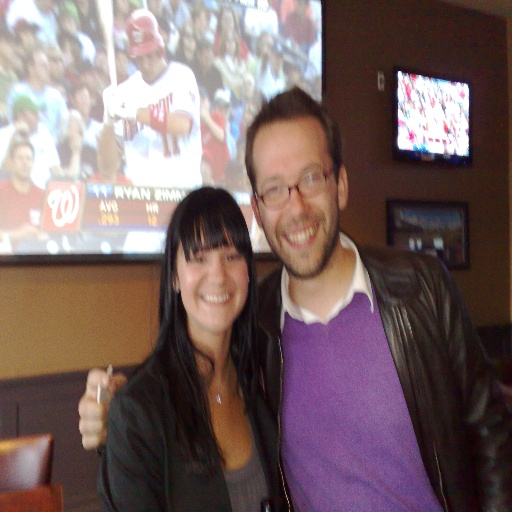hand: (71, 376, 103, 460), (113, 89, 146, 117), (101, 89, 121, 126), (18, 222, 38, 235), (67, 132, 80, 151), (196, 106, 209, 121)
